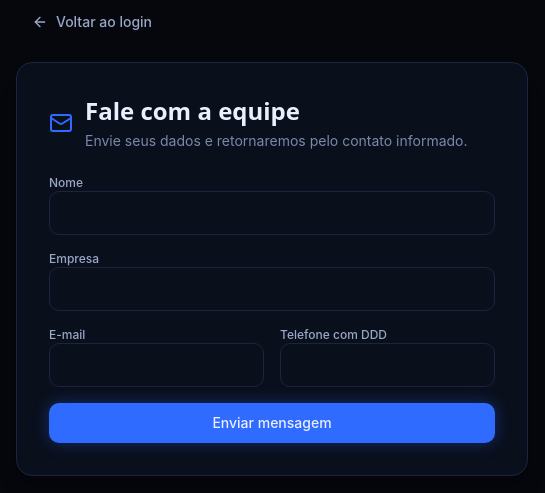
public contact flow › submits contact details and displays the server success state
Type "Joana Lima" into the field labelled "Nome".
click(272, 213); type("Joana Lima")  # box [49,191,495,235]
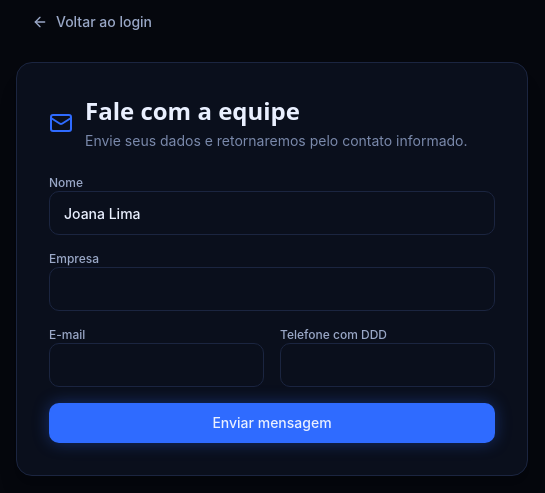
Type "Loja Central" into the field labelled "Empresa".
click(272, 289); type("Loja Central")  # box [49,267,495,311]
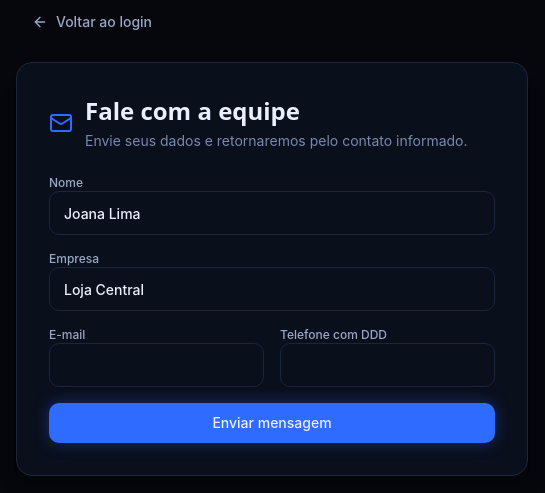
Type "joana@example.com" into the field labelled "E-mail".
click(156, 365); type("joana@example.com")  # box [49,343,264,387]
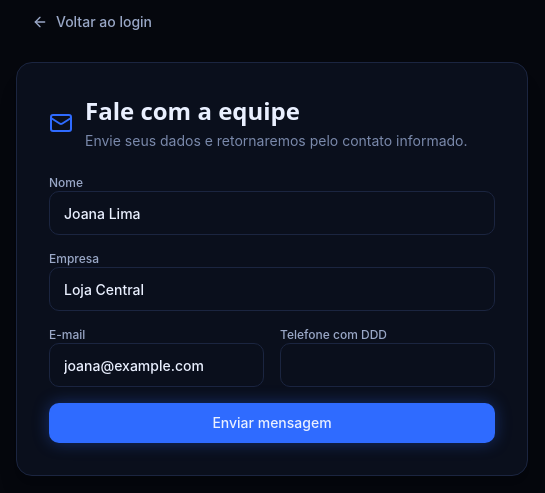
Type "11912345678" into the field labelled "Telefone com DDD".
click(388, 365); type("11912345678")  # box [280,343,495,387]
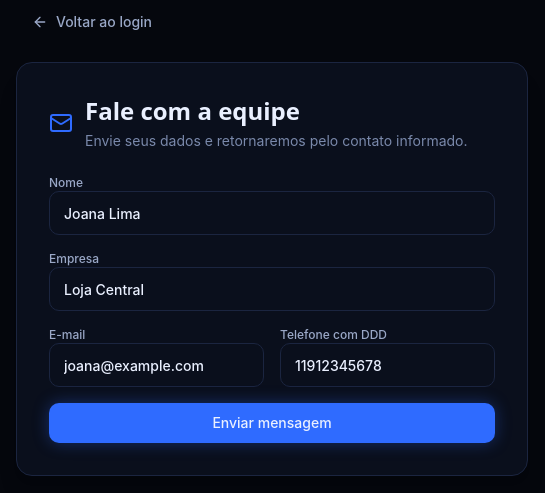
Click the button "Enviar mensagem".
click(272, 423)  # box [49,403,495,443]
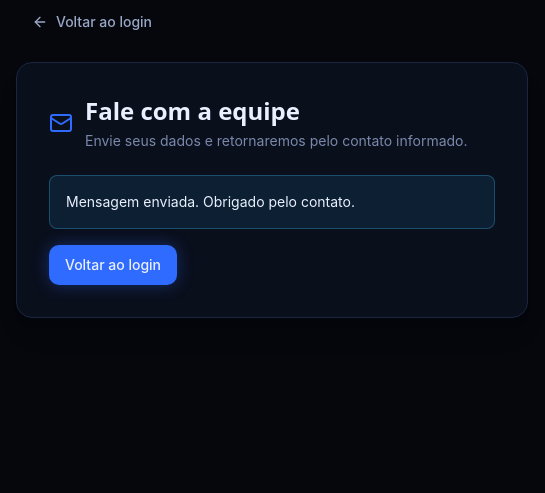
expect the text "Mensagem enviada. Obrigado pelo contato." is shown: met, box [49,175,495,229]
